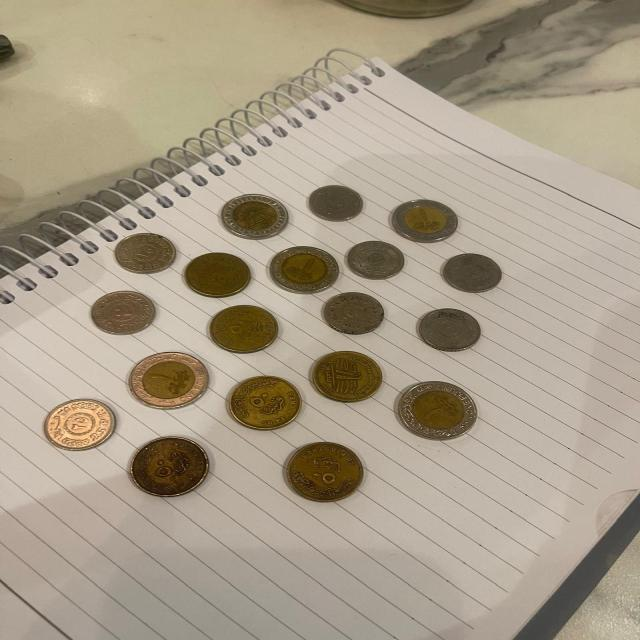Half Pound: (284, 441, 364, 502), (227, 376, 303, 430), (308, 354, 382, 404), (211, 317, 280, 358)
One Pound: (401, 382, 472, 442), (130, 354, 208, 408), (268, 246, 339, 294), (221, 194, 290, 240), (390, 198, 457, 243)
quarter pound: (129, 436, 210, 496), (42, 398, 116, 452), (184, 252, 252, 297), (90, 290, 156, 333), (114, 232, 177, 274), (421, 309, 482, 351), (322, 292, 386, 332), (344, 240, 406, 281), (442, 252, 502, 294), (306, 185, 364, 222)
